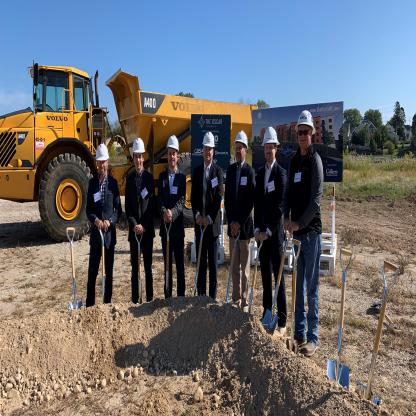person: (286, 105, 326, 355), (257, 105, 287, 347), (120, 128, 157, 310), (190, 130, 223, 325), (225, 128, 256, 320), (156, 137, 188, 290), (89, 136, 115, 315)
